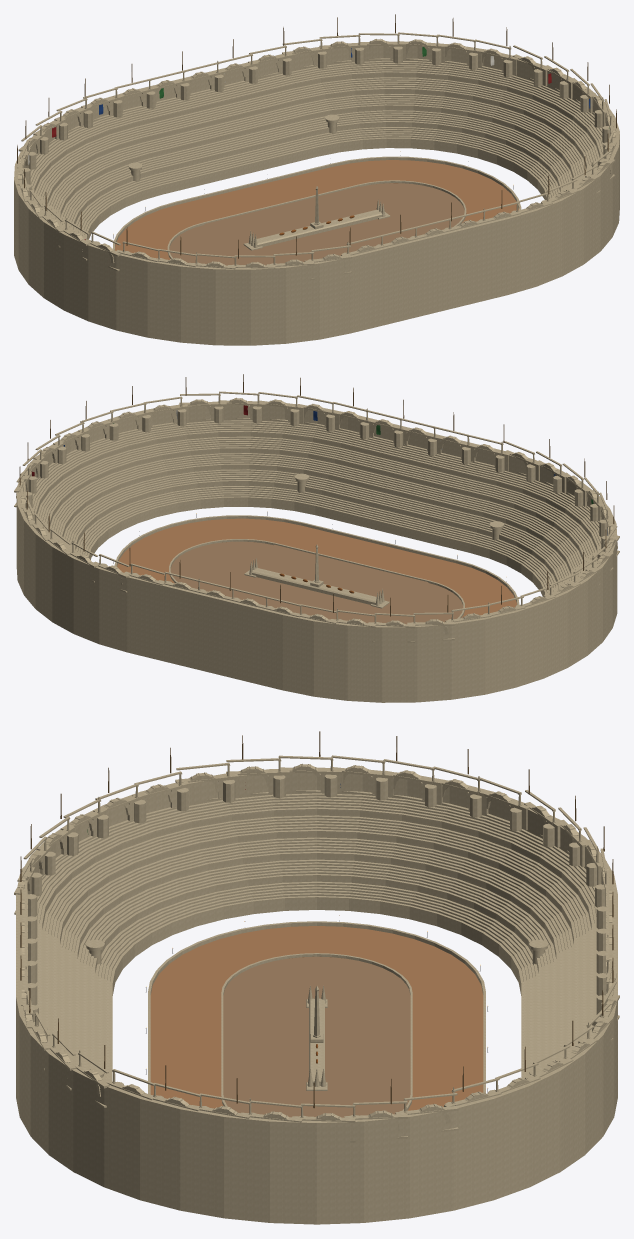
File: colosseum_track.glb
The picture shows the model from 3 angles, top to bottom: view 1: azimuth 30°, elevation 25°; view 2: azimuth 150°, elevation 25°; view 3: azimuth 270°, elevation 25°; orthographic projection. The views are drawn at different scales.
Visible parts, largest first — view 1: colosseum_track; view 2: colosseum_track; view 3: colosseum_track.
Boxes of the visible parts, x1=… form: colosseum_track: x1=14, y1=14, x2=619, y2=345; colosseum_track: x1=14, y1=374, x2=619, y2=702; colosseum_track: x1=14, y1=731, x2=619, y2=1224.
Bounding box in the file's own units: 334 × 61.59 × 240.
11 materials, 1 textured.
